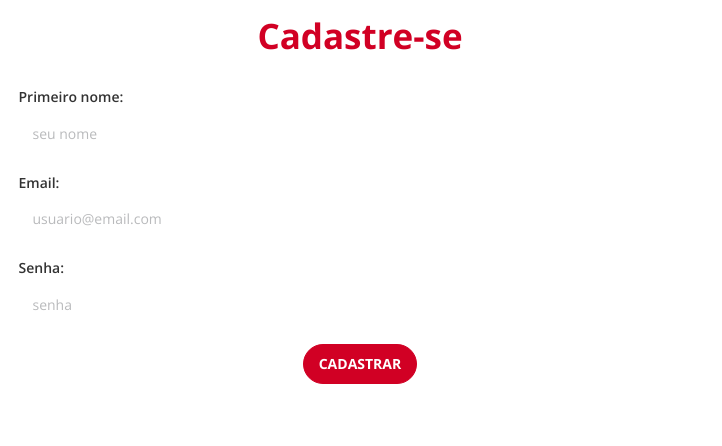
Test: UserForm - Cadastro › deve exibir mensagem de validação quando o formulário for enviado sem preencher os campos
Click the button "Cadastrar" at (360, 364), box [303, 344, 417, 384]
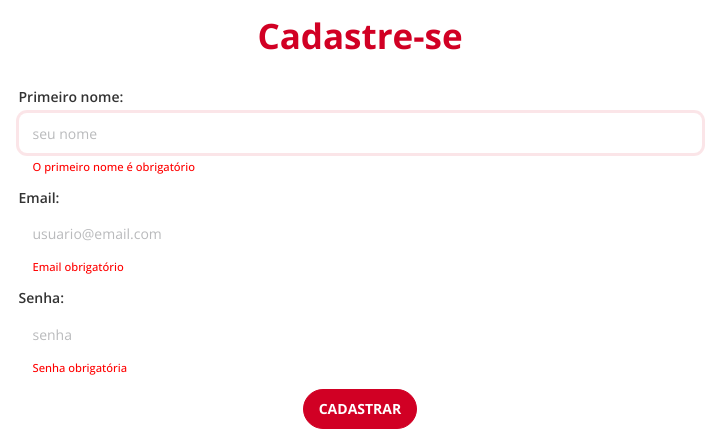
Expected: the text "O primeiro nome é obrigatório" is shown, [32, 159, 195, 174]
Expected: the text "Email obrigatório" is shown, [32, 259, 124, 274]
Expected: the text "Senha obrigatória" is shown, [32, 360, 127, 375]
